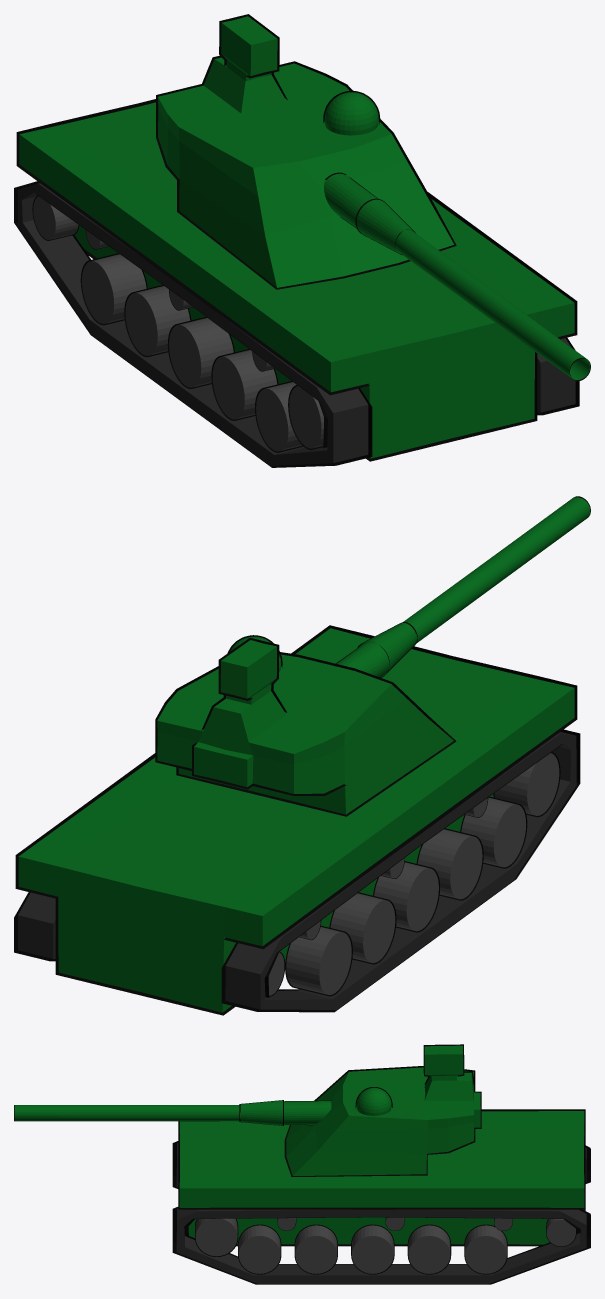
Rendered from SK-105_Kürassier.glb.
The picture shows the model from 3 angles, top to bottom: view 1: azimuth 30°, elevation 25°; view 2: azimuth 150°, elevation 25°; view 3: azimuth 270°, elevation 25°; orthographic projection. The views are drawn at different scales.
Parts seen in each view (by area): view 1: Cube.001, Cube, Cube.002, Cylinder.001, Cylinder, Sphere, Cylinder.002, Cylinder.003, Cylinder.004; view 2: Cube.001, Cube, Cube.002, Cylinder.001, Cylinder, Cylinder.002, Cylinder.004; view 3: Cube.001, Cube, Cube.002, Cylinder.001, Cylinder, Cylinder.002, Sphere, Cylinder.003, Cylinder.004.
Part boxes in pixels (x1=…): Cube.001: x1=16, y1=99, x2=577, y2=461; Cube: x1=156, y1=14, x2=456, y2=289; Cube.002: x1=14, y1=181, x2=579, y2=467; Cylinder.001: x1=80, y1=253, x2=303, y2=452; Cylinder: x1=324, y1=172, x2=590, y2=381; Sphere: x1=323, y1=90, x2=380, y2=136; Cylinder.002: x1=288, y1=385, x2=323, y2=449; Cylinder.003: x1=32, y1=196, x2=79, y2=240; Cylinder.004: x1=85, y1=230, x2=274, y2=371; Cube.001: x1=15, y1=625, x2=577, y2=1015; Cube: x1=155, y1=638, x2=456, y2=816; Cube.002: x1=14, y1=729, x2=580, y2=1012; Cylinder.001: x1=285, y1=796, x2=527, y2=996; Cylinder: x1=336, y1=496, x2=590, y2=677; Cylinder.002: x1=493, y1=752, x2=560, y2=817; Cylinder.004: x1=299, y1=798, x2=488, y2=940; Cube.001: x1=178, y1=1109, x2=585, y2=1246; Cube: x1=284, y1=1044, x2=481, y2=1176; Cube.002: x1=172, y1=1141, x2=590, y2=1284; Cylinder.001: x1=238, y1=1224, x2=507, y2=1274; Cylinder: x1=14, y1=1100, x2=331, y2=1125; Cylinder.002: x1=195, y1=1218, x2=238, y2=1256; Sphere: x1=355, y1=1087, x2=392, y2=1116; Cylinder.003: x1=546, y1=1219, x2=576, y2=1246; Cylinder.004: x1=277, y1=1217, x2=512, y2=1230.
Size of the model in its own units: 0.9978 by 1.17 by 3.1.
